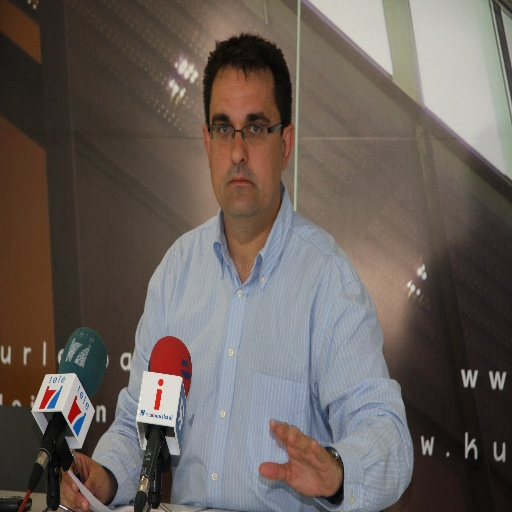hand: (265, 422, 343, 498), (58, 448, 111, 511)
